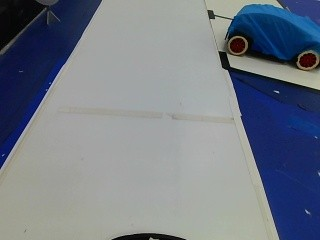car: (218, 3, 318, 68)
